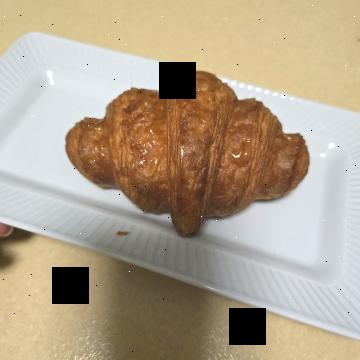croissant: (71, 36, 256, 307)
